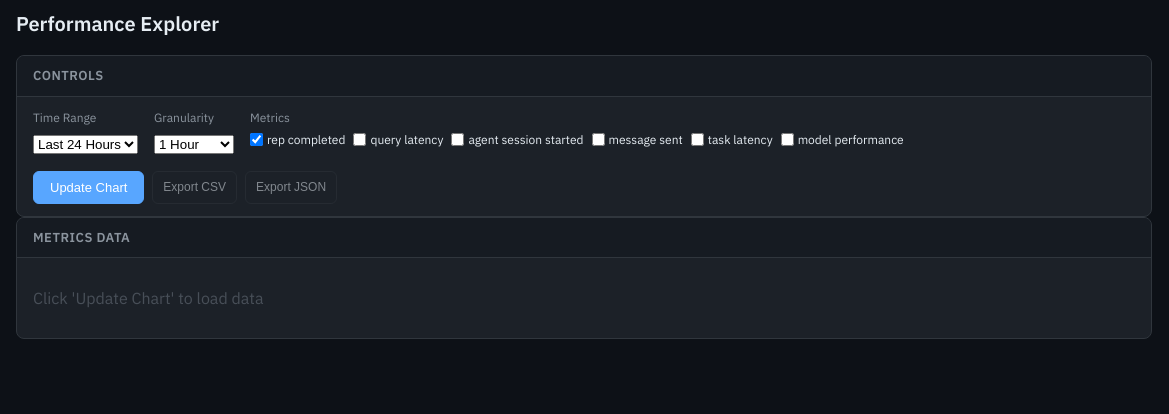
PerformanceExplorer › shows error banner on fetch failure
Click the button "Update Chart": point(89, 187) x1=33 y1=170 x2=144 y2=204
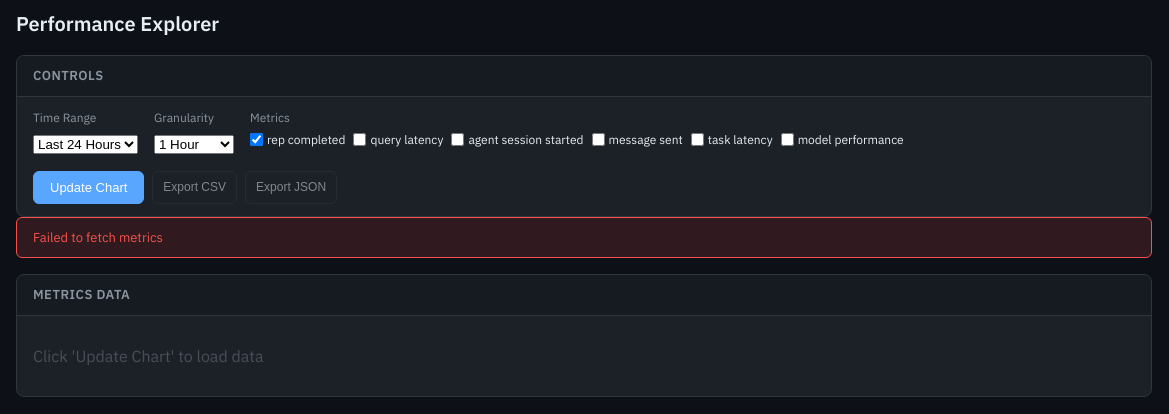
Expected: the text "Failed to fetch metrics" is shown, x1=16 y1=216 x2=1152 y2=258
